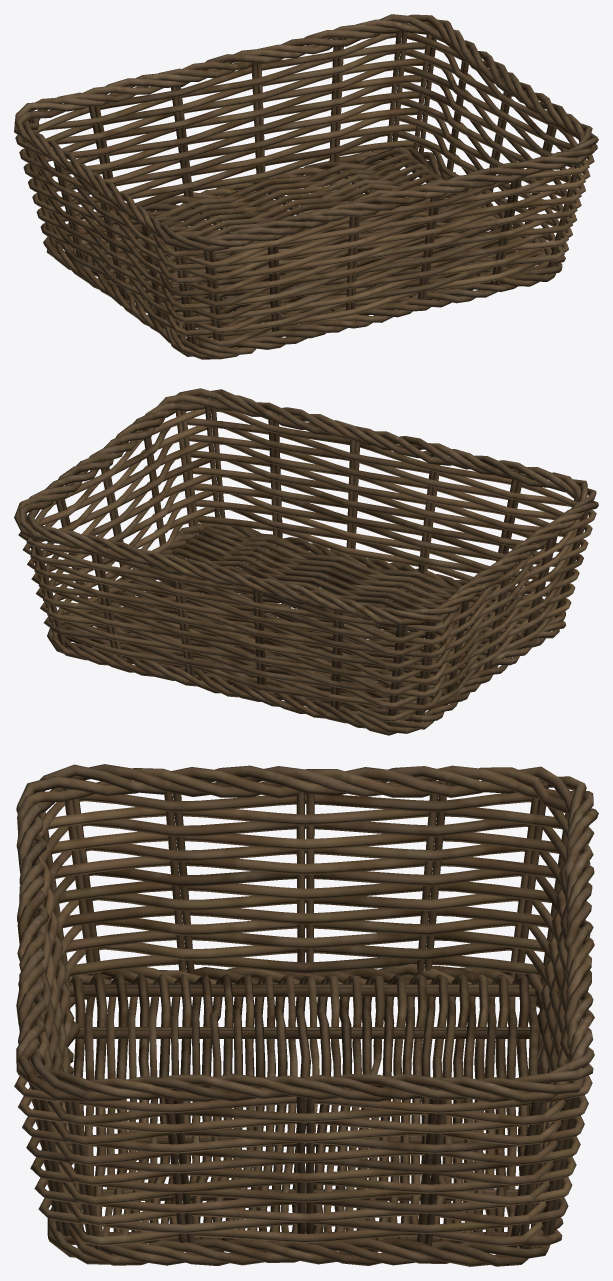
File: wicker_basket_01.glb
3 views of the same model, one above another, from view 1: azimuth 30°, elevation 25°; view 2: azimuth 150°, elevation 25°; view 3: azimuth 270°, elevation 25° (orthographic). The views are drawn at different scales.
Visible parts, largest first — view 1: wicker_basket_01; view 2: wicker_basket_01; view 3: wicker_basket_01.
Boxes of the visible parts, x1,y1,x2,y2 form: wicker_basket_01: [14, 14, 598, 359]; wicker_basket_01: [14, 388, 598, 735]; wicker_basket_01: [14, 764, 598, 1266].
Bounding box in the file's own units: 0.3832 × 0.1174 × 0.295.
Materials: 1 (1 with a texture image).
